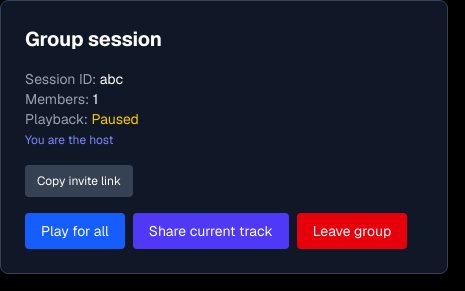
Test: GroupSession › destroys the group when the last member leaves
Click the button "Leave group" at (352, 231), box [297,213,407,249]
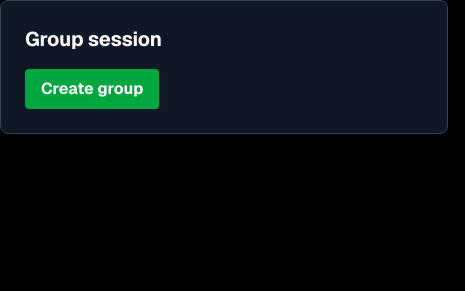
Check: the button "Create group" is shown, box [25,69,159,109]
